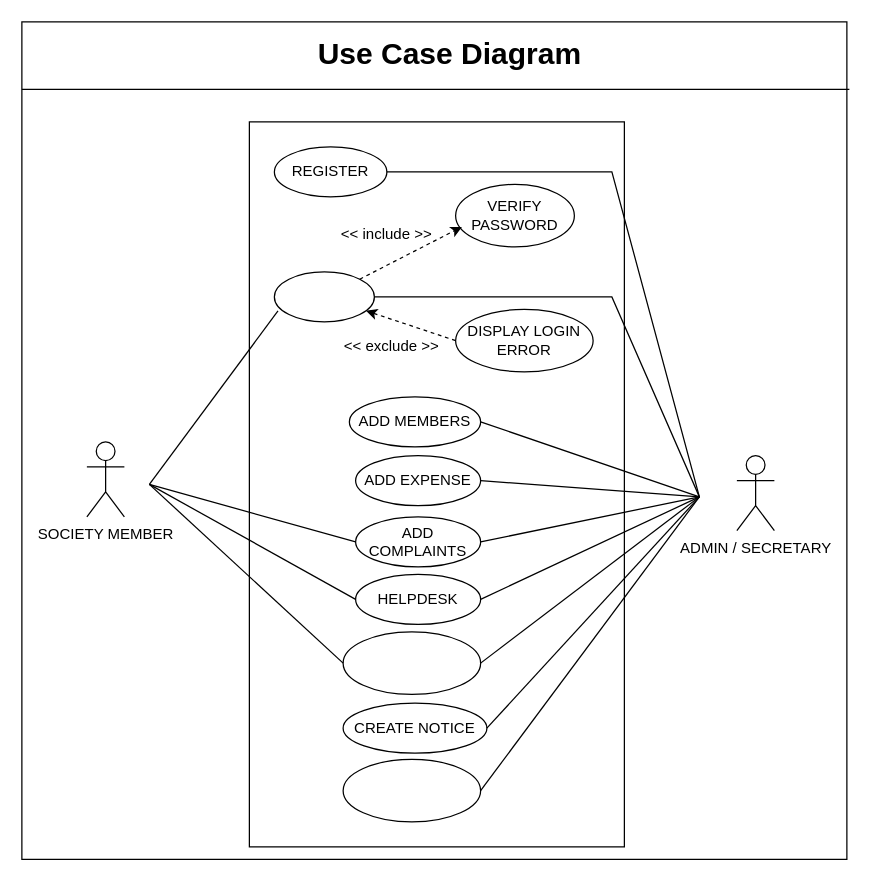
Image size: 871x881. Some labels were removed from this diagram. Here are the shapes that lost their labels. From the top down, the centre of each, then its label:
At pixel 323 296: "LOGIN".
At pixel 411 662: "VIEW MAINTENANCE DETAILS".
At pixel 411 790: "ADD MAINTENANCE".
